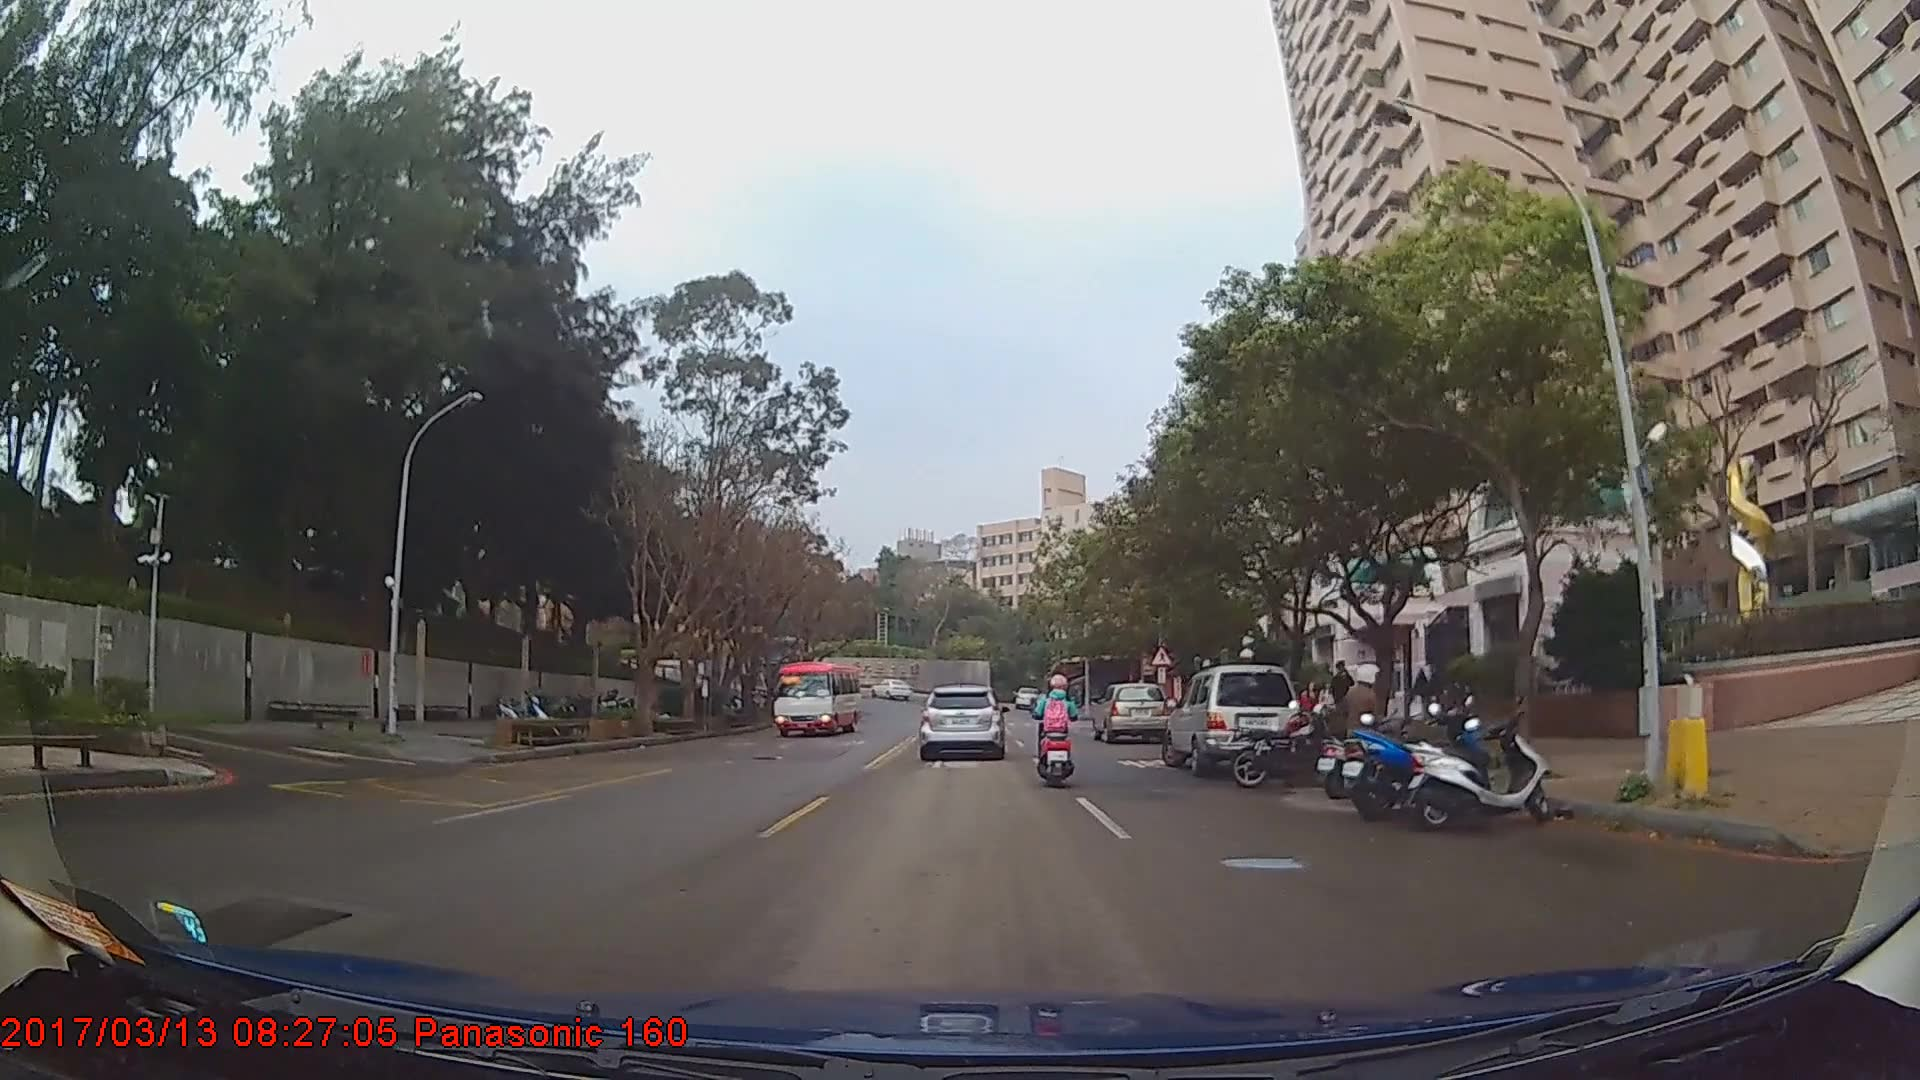pedestrian: (1331, 662, 1356, 732)
rider: (1325, 662, 1398, 793), (1033, 670, 1086, 797)
vehicle: (1162, 664, 1302, 776), (771, 659, 861, 737), (917, 684, 1004, 761), (1091, 681, 1171, 743), (866, 676, 914, 701)
